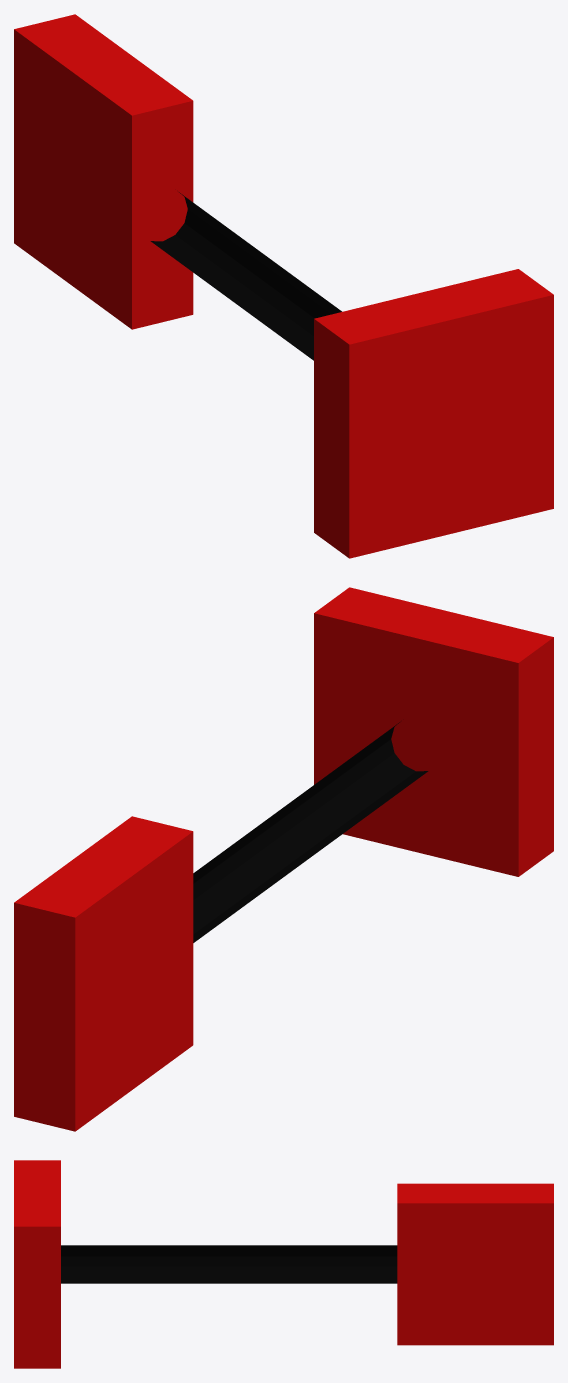
Rendered from Red_key.fbx.
3 views of the same model, one above another, from view 1: azimuth 30°, elevation 25°; view 2: azimuth 150°, elevation 25°; view 3: azimuth 270°, elevation 25° (orthographic). The views are drawn at different scales.
Visible parts, largest first — view 1: Red_key; view 2: Red_key; view 3: Red_key.
Part boxes in pixels (<box>): Red_key: <box>14,14,553,558</box>; Red_key: <box>14,587,553,1131</box>; Red_key: <box>14,1160,553,1368</box>.
Bounding box in the file's own units: 0.05 × 0.05 × 0.1724.
